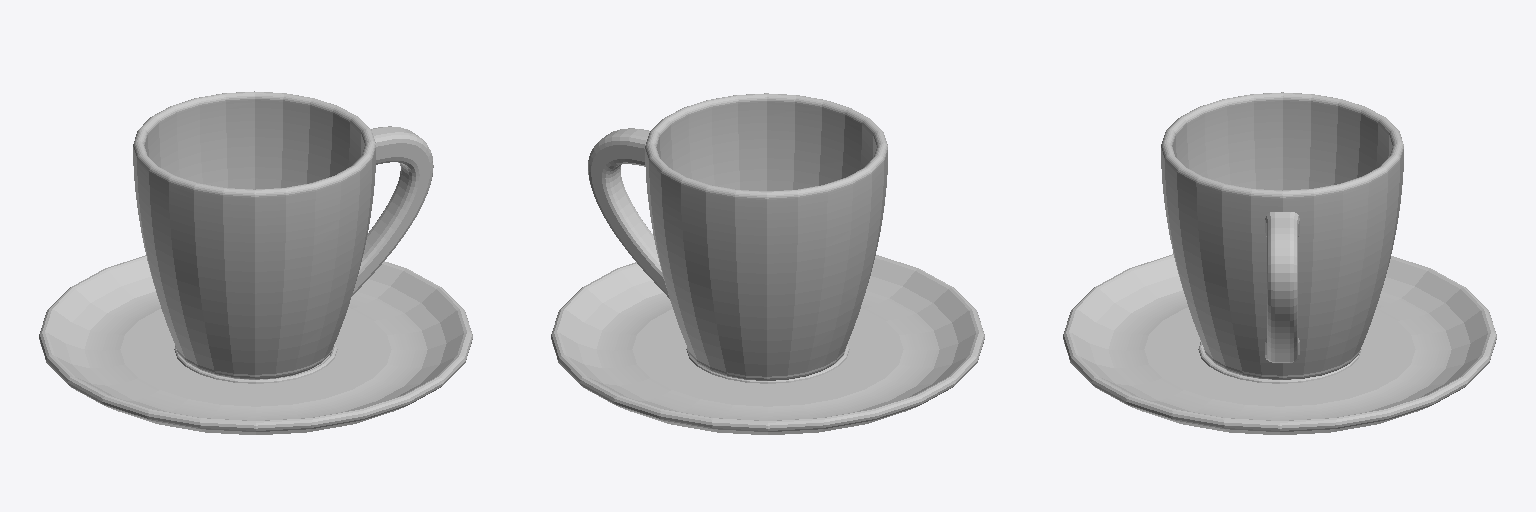
3 renders of one model, left to right at view 1: azimuth 30°, elevation 25°; view 2: azimuth 150°, elevation 25°; view 3: azimuth 270°, elevation 25°, orthographic.
Visible parts, largest first — view 1: Group_001, Tatakan_Cangkir_001, Group_002; view 2: Group_001, Tatakan_Cangkir_001, Group_002; view 3: Group_001, Tatakan_Cangkir_001, Group_002.
Part boxes in pixels (left/top/right/bottom): Group_001: left=133, top=91, right=375, bottom=379; Tatakan_Cangkir_001: left=39, top=255, right=472, bottom=434; Group_002: left=352, top=126, right=433, bottom=295; Group_001: left=645, top=93, right=887, bottom=380; Tatakan_Cangkir_001: left=551, top=255, right=984, bottom=434; Group_002: left=588, top=128, right=669, bottom=298; Group_001: left=1161, top=92, right=1403, bottom=379; Tatakan_Cangkir_001: left=1063, top=254, right=1496, bottom=434; Group_002: left=1265, top=212, right=1299, bottom=362.
Bounding box in the file's own units: 5.97 × 3.46 × 5.97.